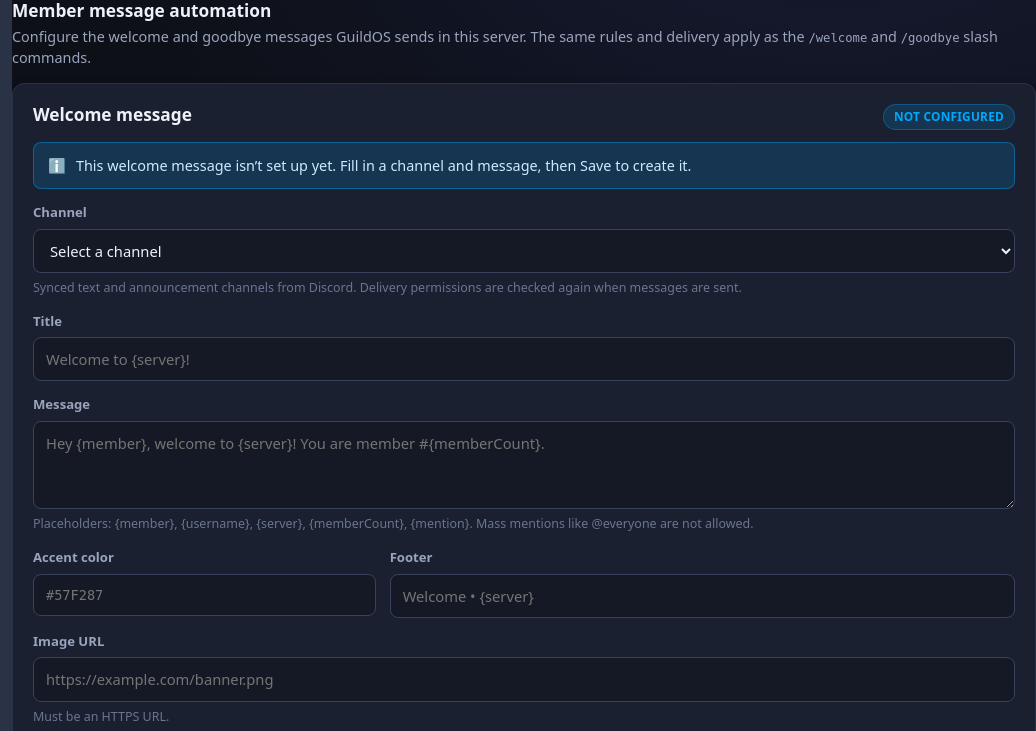
Test case: AutomationTab › renders returned preview data without sending a message
Select "#welcome" in the dropdown labelled "Channel" at (524, 251), box [33, 229, 1015, 273]
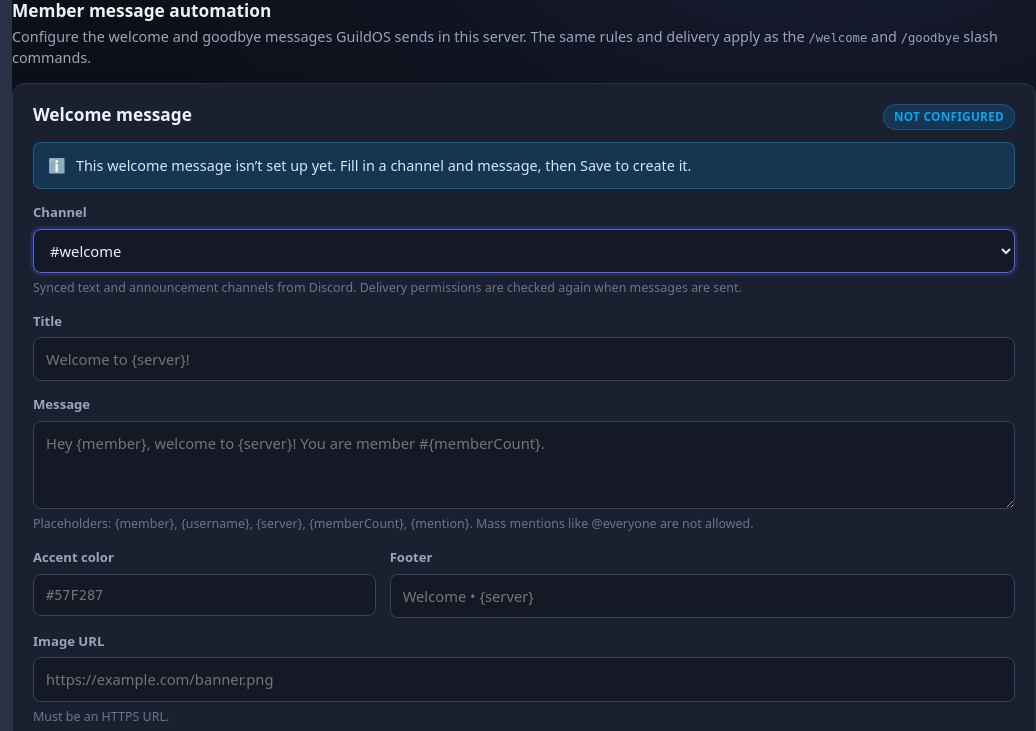
Type "Welcome friends" into the text box labelled "Message".
click(524, 465); type("Welcome friends")  # box [33, 421, 1015, 509]
(page scrolled)
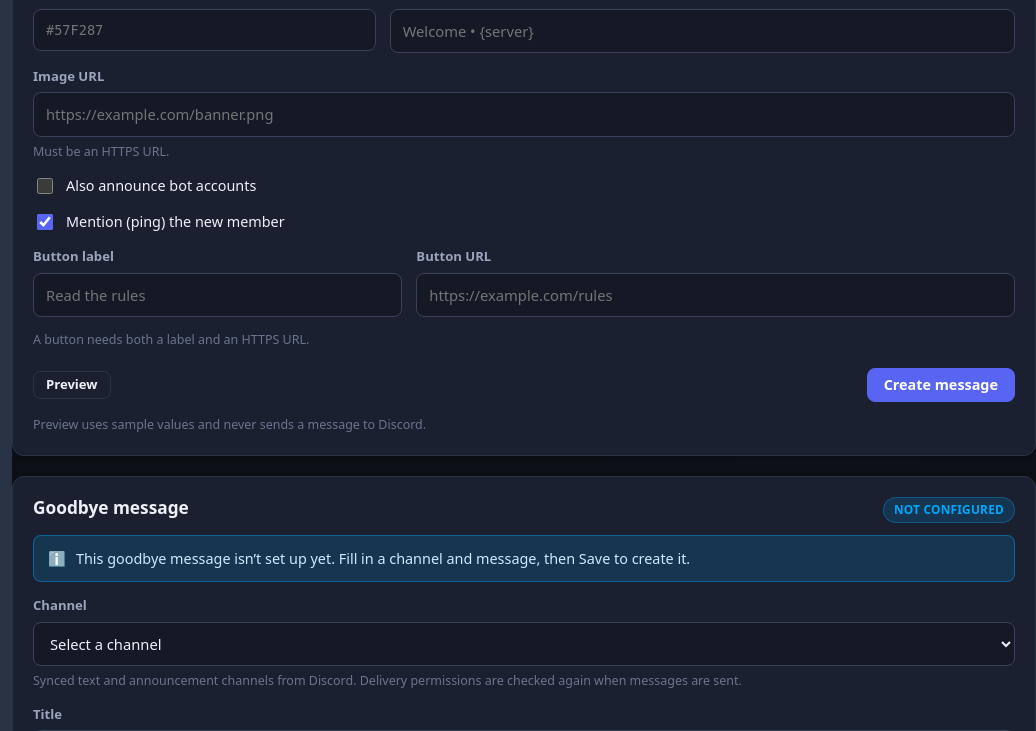
Click the button "Preview".
click(72, 385)  # box [33, 371, 111, 398]
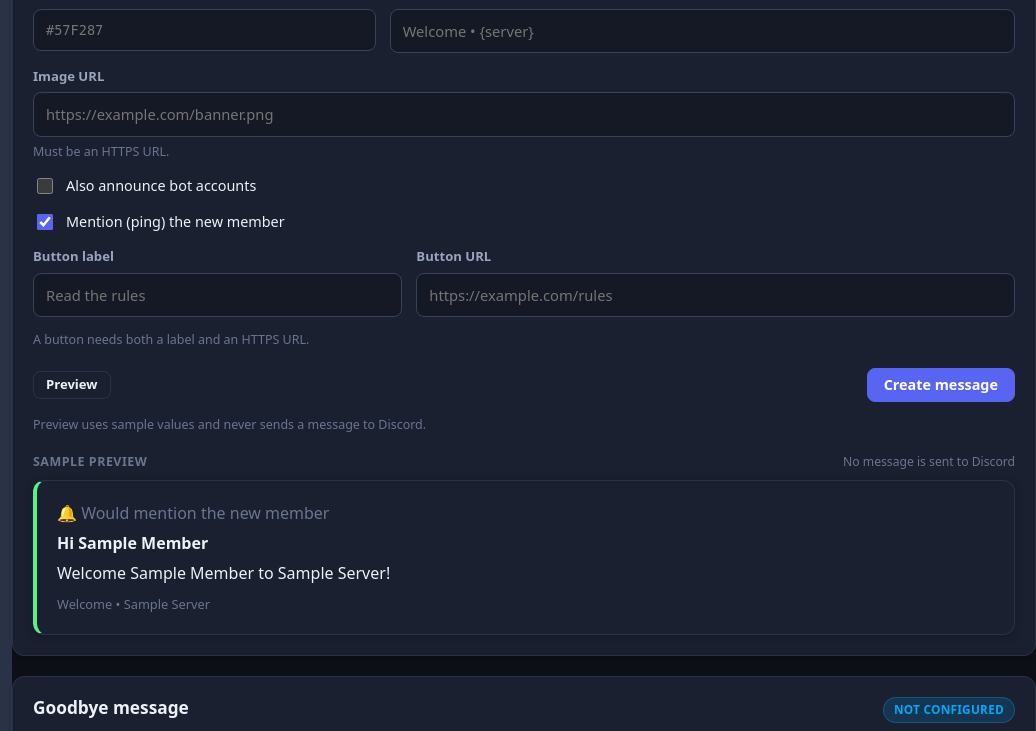
Expected: the text "Welcome Sample Member to Sample Server!" is shown, [57, 562, 390, 584]
Expected: the text "Hi Sample Member" is shown, [57, 532, 208, 554]
Expected: the text "🔔 Would mention the new member" is shown, [57, 502, 330, 524]
